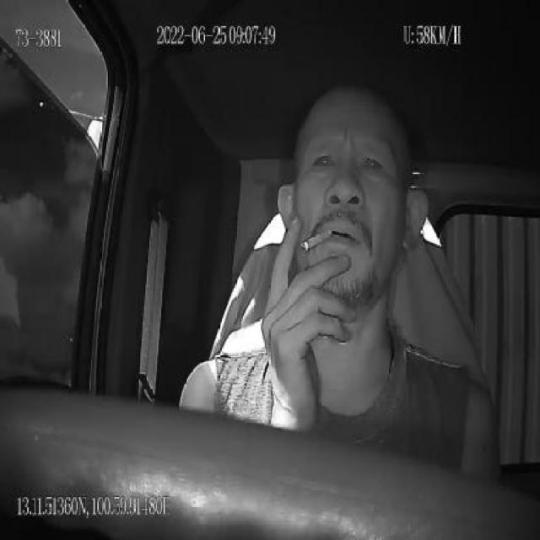smoking: (302, 226, 332, 252)
